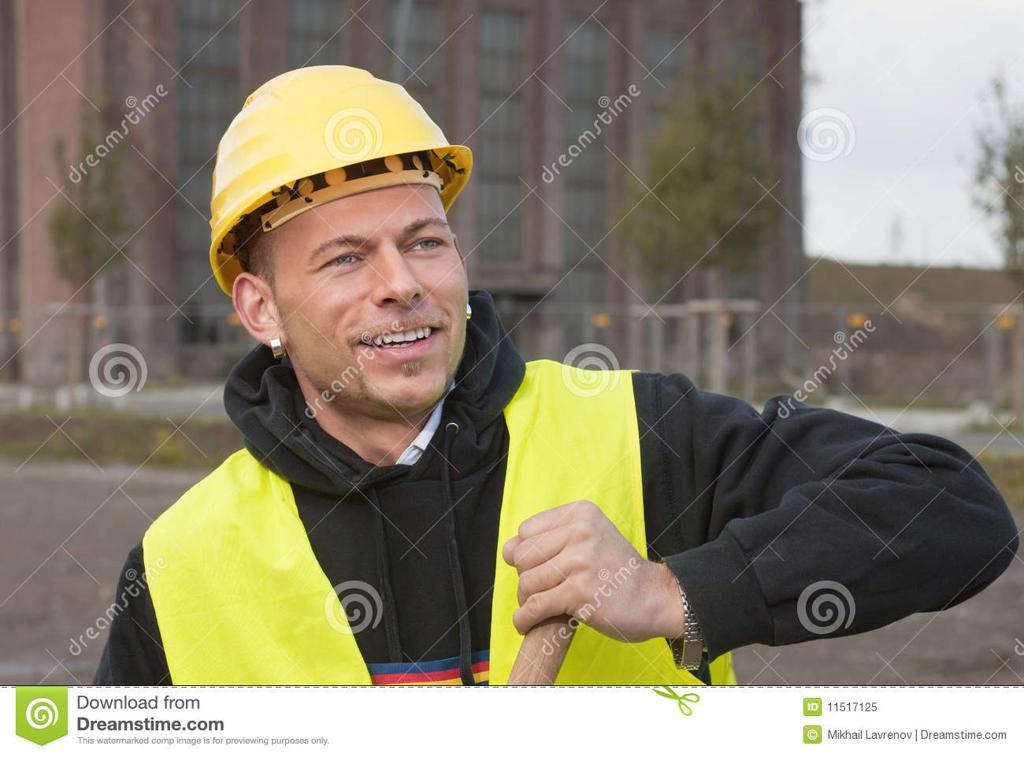face: (288, 160, 464, 390)
